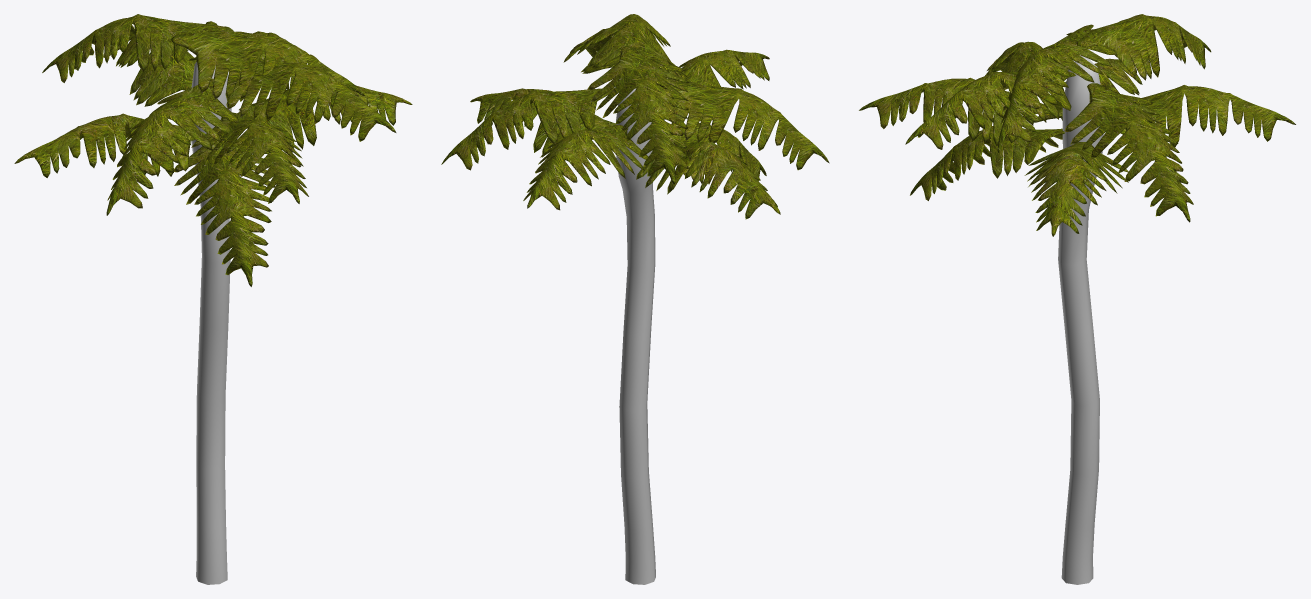
File: Coconut Tree.fbx
3 views of the same model, side by side, from view 1: azimuth 30°, elevation 25°; view 2: azimuth 150°, elevation 25°; view 3: azimuth 270°, elevation 25° (orthographic). The views are drawn at different scales.
Parts seen in each view (by area): view 1: Coconut tree; view 2: Coconut tree; view 3: Coconut tree.
Part boxes in pixels (box(x1,y1,x2,y2)): Coconut tree: box(14, 14, 412, 584); Coconut tree: box(441, 14, 829, 584); Coconut tree: box(859, 14, 1295, 584).
Size of the model in its own units: 1625 by 2365 by 1728.
